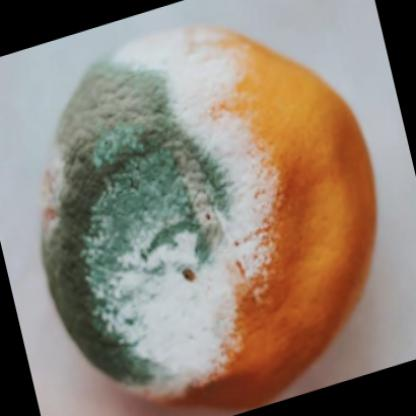rotten_orange: (38, 13, 382, 412)
